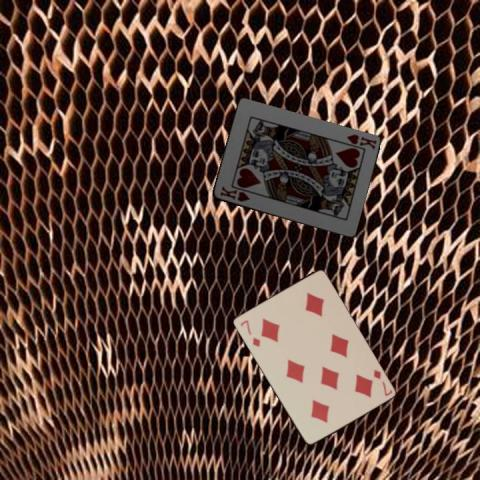7d: (237, 316, 262, 348), (370, 366, 393, 397)
Kh: (216, 184, 250, 204), (343, 131, 377, 151)
